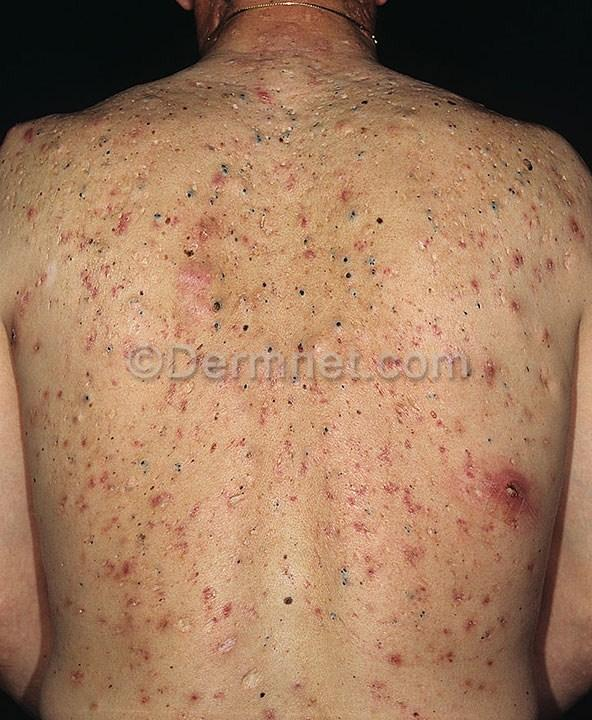Acne: (97, 529, 156, 716), (469, 445, 560, 516), (51, 225, 131, 302), (489, 257, 567, 334), (37, 117, 139, 170), (139, 487, 218, 553), (301, 197, 368, 274), (331, 85, 416, 141), (177, 279, 232, 352), (207, 165, 250, 246)
